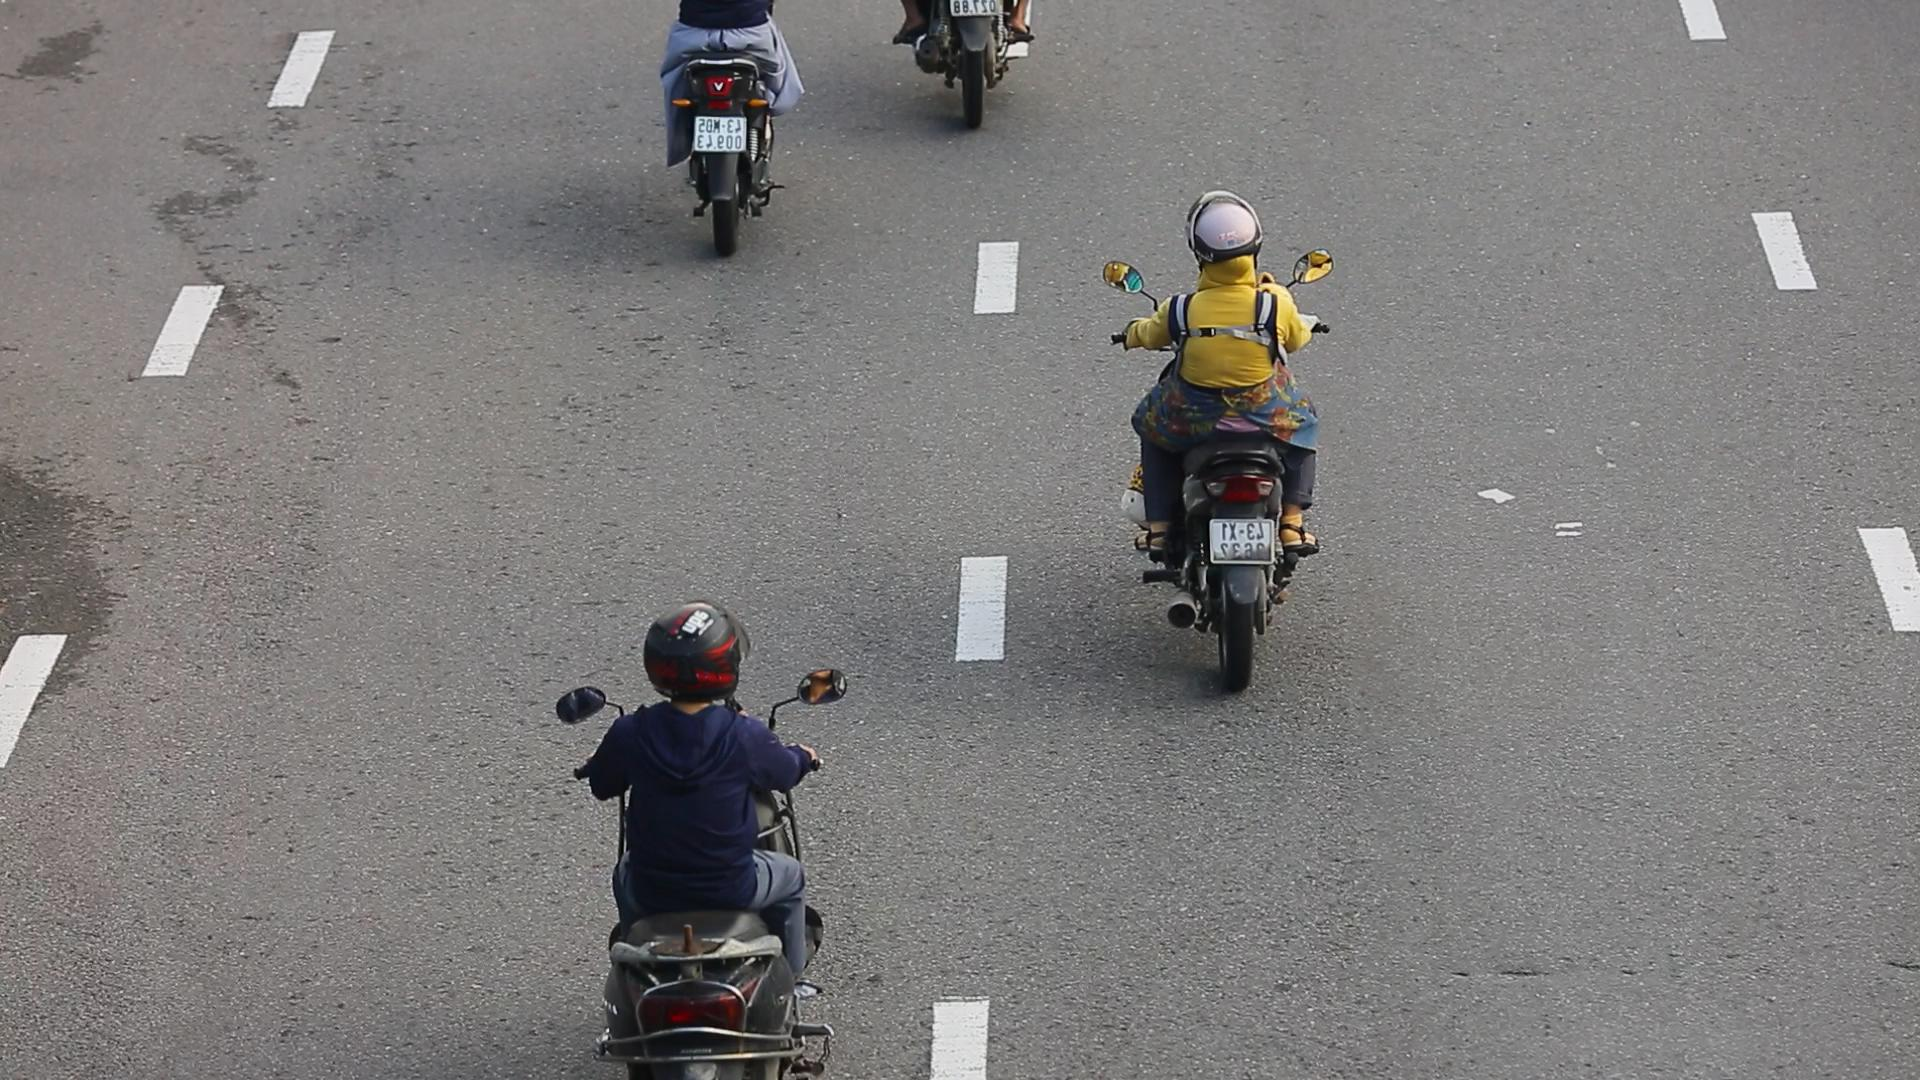motobike: (1096, 181, 1342, 716)
